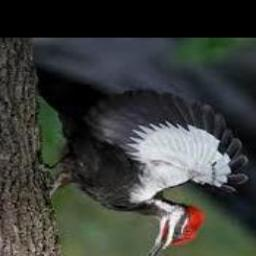Woodpecker: (41, 87, 249, 256)
